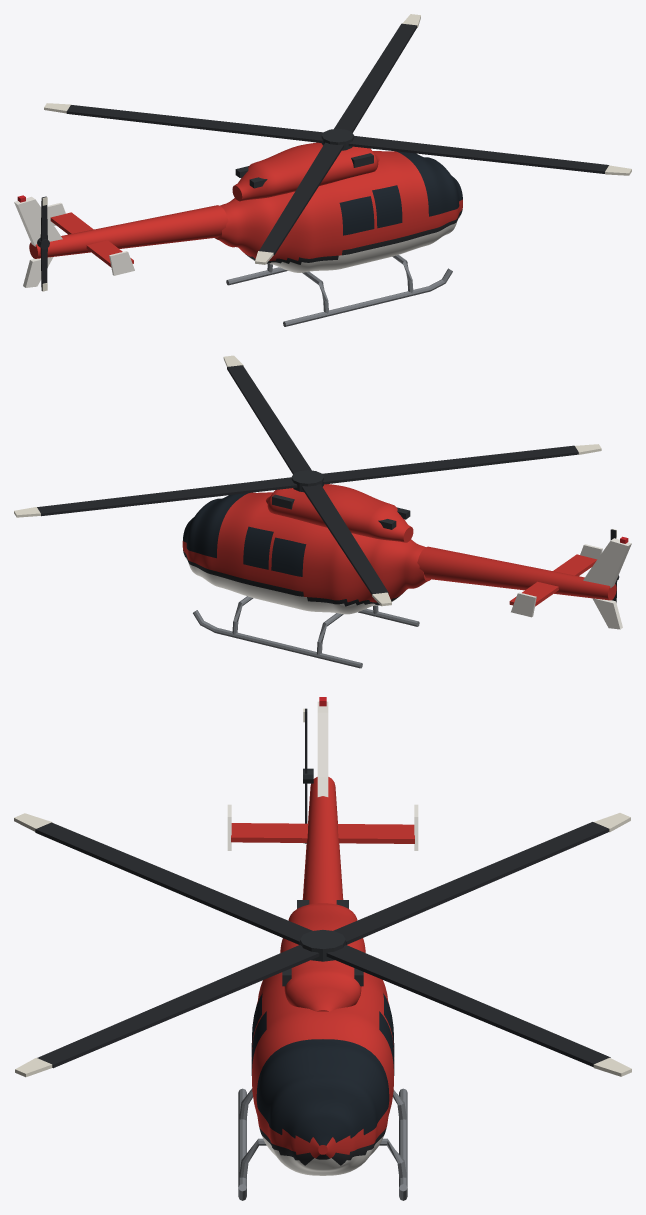
Rendered from helicopters.glb.
3 renders of one model, top to bottom at view 1: azimuth 30°, elevation 25°; view 2: azimuth 150°, elevation 25°; view 3: azimuth 270°, elevation 25°, orthographic. The views are drawn at different scales.
Visible parts, largest first — view 1: heli_body, heli_rotor, heli_tail; view 2: heli_body, heli_rotor; view 3: heli_body, heli_rotor.
Boxes of the visible parts, x1,y1,x2,y2 form: heli_body: (14, 142, 462, 326); heli_rotor: (44, 14, 631, 264); heli_tail: (37, 196, 49, 291); heli_body: (182, 484, 631, 668); heli_rotor: (14, 355, 601, 606); heli_body: (227, 697, 418, 1200); heli_rotor: (14, 813, 631, 1077).
Bounding box in the file's own units: 10.92 × 3.4 × 8.08.
